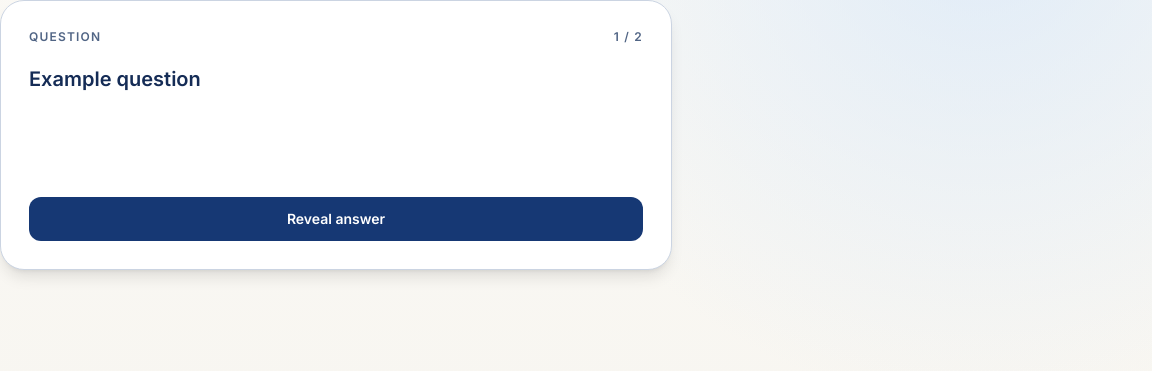
Test case: text study flashcards › reveals selectable answer text without images and resets on navigation
Later steps or results of the test are not shown.
Check: the text "An example answer." is not shown
Click the button "Reveal answer": (336, 219) [29, 197, 643, 241]
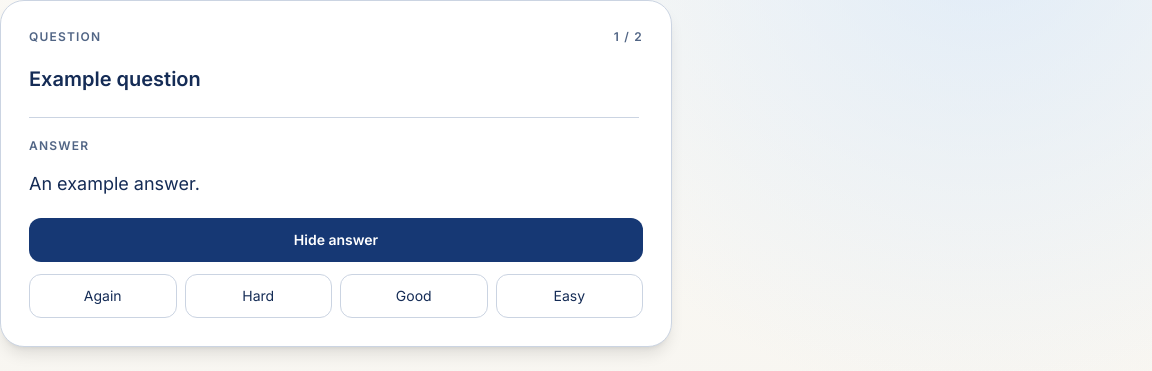
Check: the text "An example answer." is shown, box [29, 173, 200, 194]
